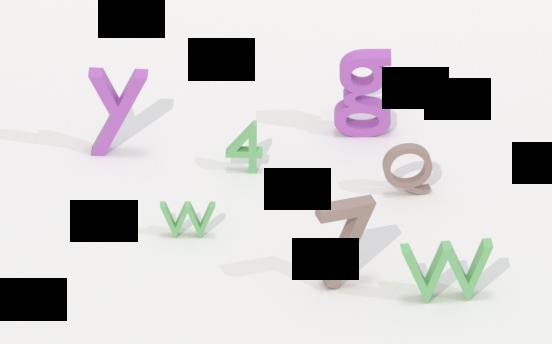4: (224, 117, 265, 178)
7: (309, 191, 379, 294)
Y: (84, 63, 152, 163)
g: (333, 43, 395, 140)
q: (381, 139, 439, 200)
w: (399, 235, 496, 306), (157, 196, 220, 243)
